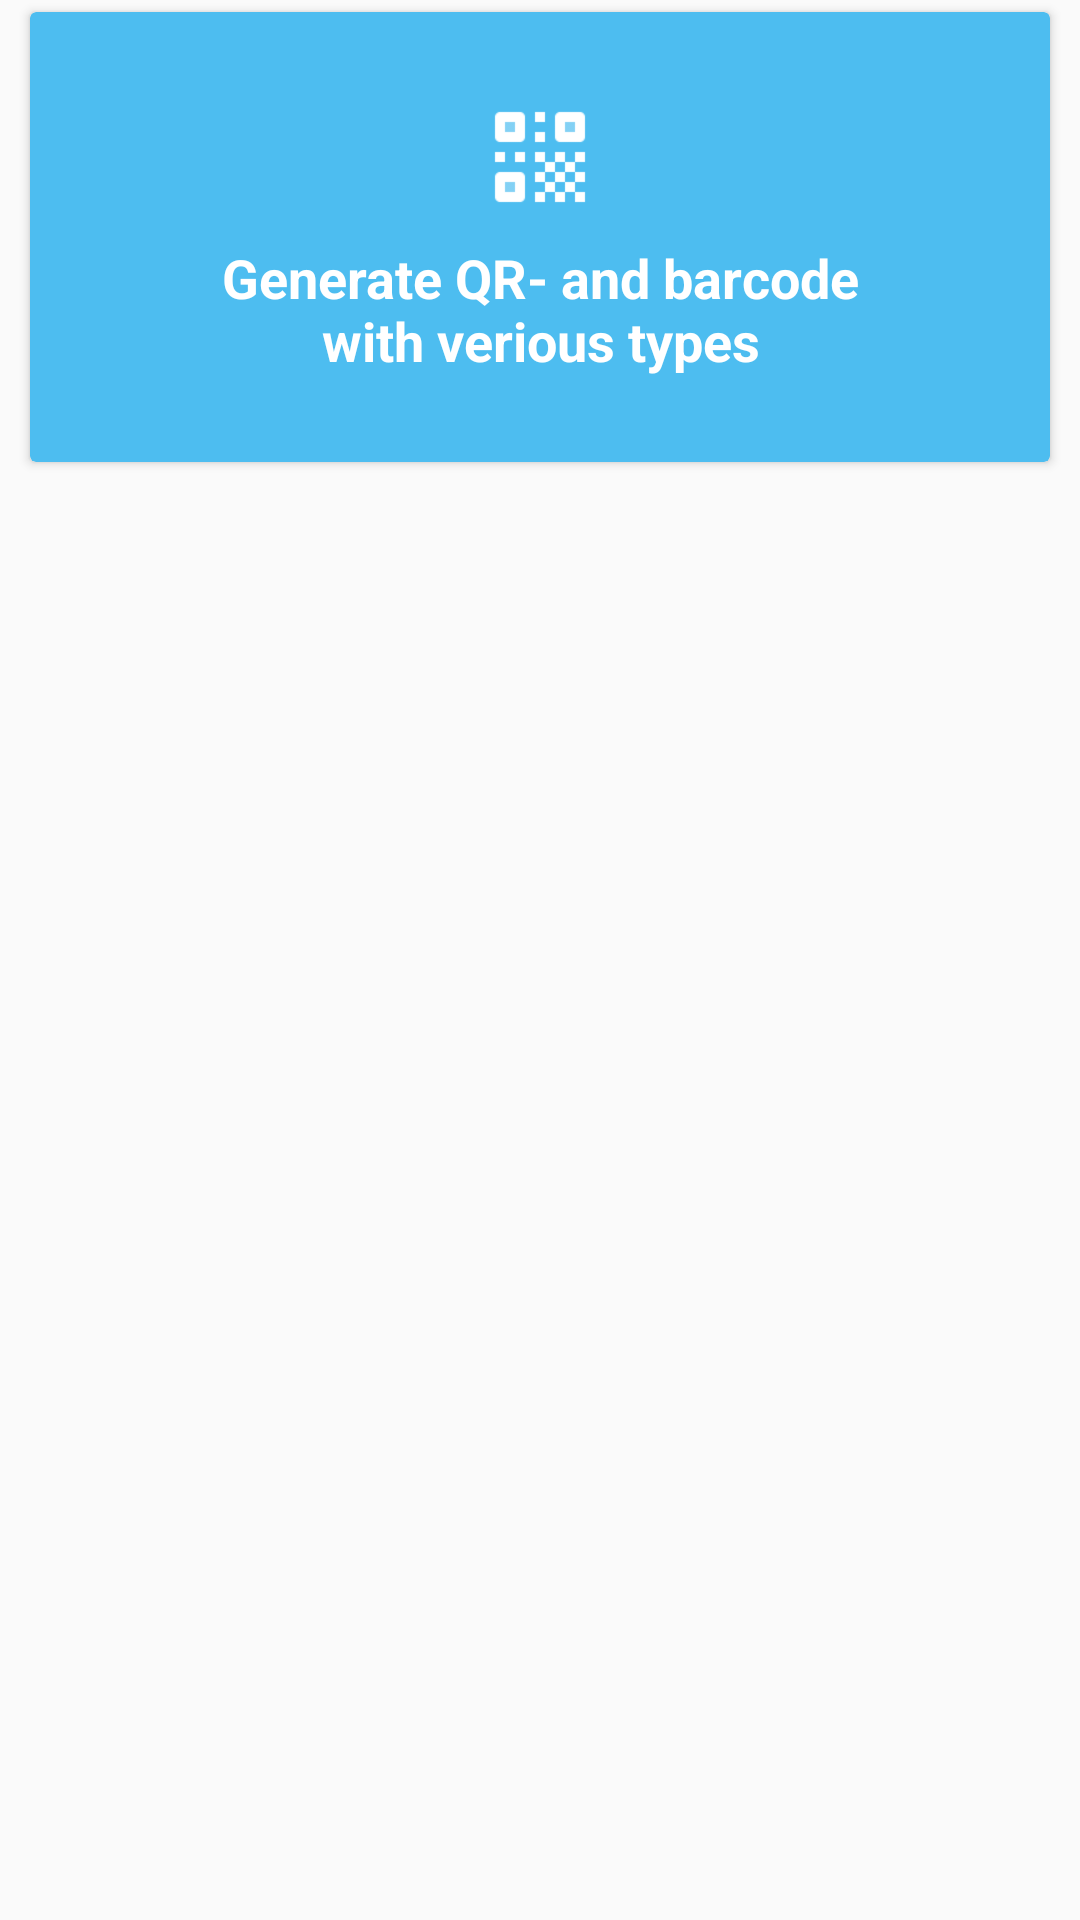

Icon bounding boxes for this 1080×1920 phone screenshot, format box=[x1, y1, x2, y2]:
qrcode: box=[495, 112, 585, 202]
